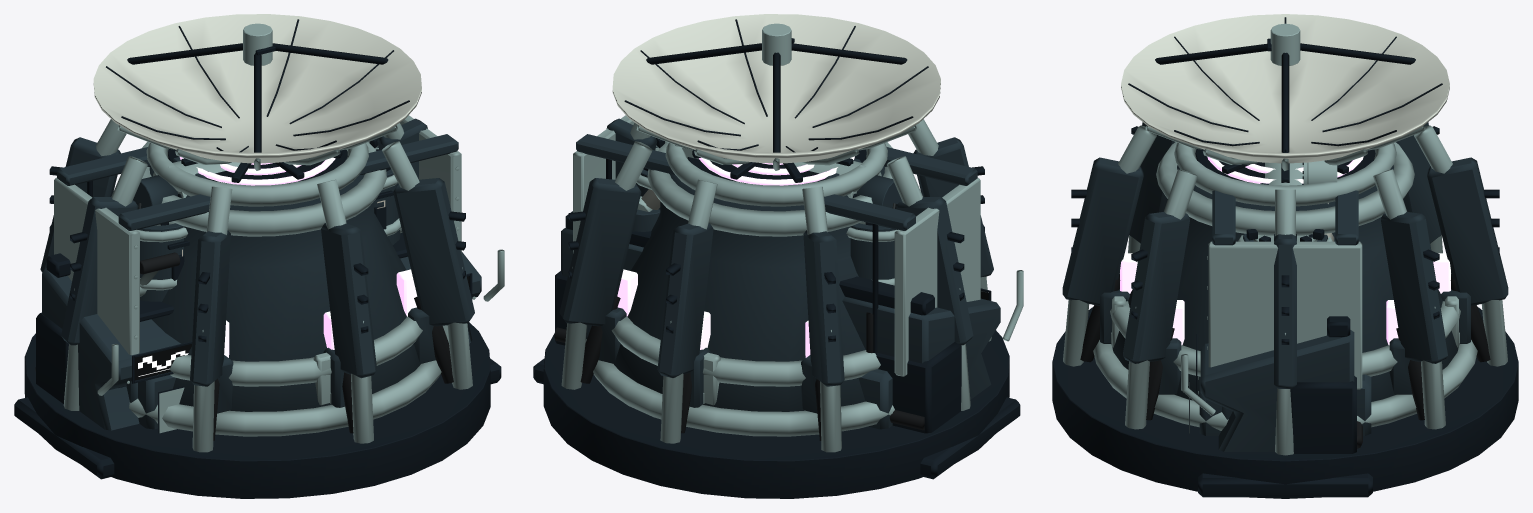
Rendered from control.glb.
3 views of the same model, side by side, from view 1: azimuth 30°, elevation 25°; view 2: azimuth 150°, elevation 25°; view 3: azimuth 270°, elevation 25° (orthographic).
Parts seen in each view (by area): view 1: reactor-crown--e9-body, uplink-tracking-dish--e9-ceramic, reactor-crown--e9-dark, reactor-crown--e9-trim, key-cylinder-interlock--e9-trim, manual-authorisation-dais--e9-body, key-cylinder-interlock--e9-body, manual-authorisation-dais--e9-dark, uplink-tracking-dish--e9-dark, uplink-tracking-dish--e9-trim, reactor-crown--e9-violet, uplink-tracking-dish--e9-body (+5 smaller); view 2: reactor-crown--e9-body, uplink-tracking-dish--e9-ceramic, reactor-crown--e9-dark, reactor-crown--e9-trim, key-cylinder-interlock--e9-trim, manual-authorisation-dais--e9-dark, manual-authorisation-dais--e9-body, key-cylinder-interlock--e9-body, uplink-tracking-dish--e9-dark, uplink-tracking-dish--e9-trim, reactor-crown--e9-violet, uplink-tracking-dish--e9-body (+4 smaller); view 3: reactor-crown--e9-body, uplink-tracking-dish--e9-ceramic, reactor-crown--e9-dark, reactor-crown--e9-trim, key-cylinder-interlock--e9-trim, manual-authorisation-dais--e9-body, manual-authorisation-dais--e9-dark, uplink-tracking-dish--e9-dark, uplink-tracking-dish--e9-trim, reactor-crown--p11-rubber, reactor-crown--e9-violet, key-cylinder-interlock--e9-body (+3 smaller).
Part boxes in pixels (x1,y1,x2,y2): reactor-crown--e9-body: [40, 118, 474, 413]; uplink-tracking-dish--e9-ceramic: [93, 14, 421, 163]; reactor-crown--e9-dark: [24, 149, 490, 498]; reactor-crown--e9-trim: [63, 119, 472, 452]; key-cylinder-interlock--e9-trim: [54, 115, 461, 355]; manual-authorisation-dais--e9-body: [42, 251, 481, 430]; key-cylinder-interlock--e9-body: [57, 134, 458, 402]; manual-authorisation-dais--e9-dark: [14, 232, 501, 479]; uplink-tracking-dish--e9-dark: [106, 19, 409, 433]; uplink-tracking-dish--e9-trim: [117, 23, 448, 433]; reactor-crown--e9-violet: [179, 157, 417, 357]; uplink-tracking-dish--e9-body: [133, 157, 208, 429]; reactor-crown--e9-body: [559, 118, 993, 413]; uplink-tracking-dish--e9-ceramic: [612, 14, 940, 163]; reactor-crown--e9-dark: [543, 149, 1009, 498]; reactor-crown--e9-trim: [561, 119, 991, 452]; key-cylinder-interlock--e9-trim: [573, 115, 980, 376]; manual-authorisation-dais--e9-dark: [533, 211, 1020, 479]; manual-authorisation-dais--e9-body: [561, 227, 1000, 399]; key-cylinder-interlock--e9-body: [576, 134, 977, 279]; uplink-tracking-dish--e9-dark: [624, 19, 928, 197]; uplink-tracking-dish--e9-trim: [636, 23, 916, 198]; reactor-crown--e9-violet: [617, 156, 854, 357]; uplink-tracking-dish--e9-body: [586, 158, 901, 429]; reactor-crown--e9-body: [1062, 122, 1508, 401]; uplink-tracking-dish--e9-ceramic: [1121, 14, 1449, 163]; reactor-crown--e9-dark: [1052, 126, 1518, 498]; reactor-crown--e9-trim: [1063, 125, 1507, 455]; key-cylinder-interlock--e9-trim: [1207, 235, 1362, 389]; manual-authorisation-dais--e9-body: [1200, 330, 1354, 451]; manual-authorisation-dais--e9-dark: [1196, 316, 1372, 497]; uplink-tracking-dish--e9-dark: [1128, 17, 1442, 433]; uplink-tracking-dish--e9-trim: [1145, 23, 1425, 433]; reactor-crown--p11-rubber: [1080, 274, 1490, 420]; reactor-crown--e9-violet: [1120, 156, 1450, 345]; key-cylinder-interlock--e9-body: [1212, 190, 1358, 419].
Bounding box in the file's own units: 4.4 × 3.86 × 4.4.
